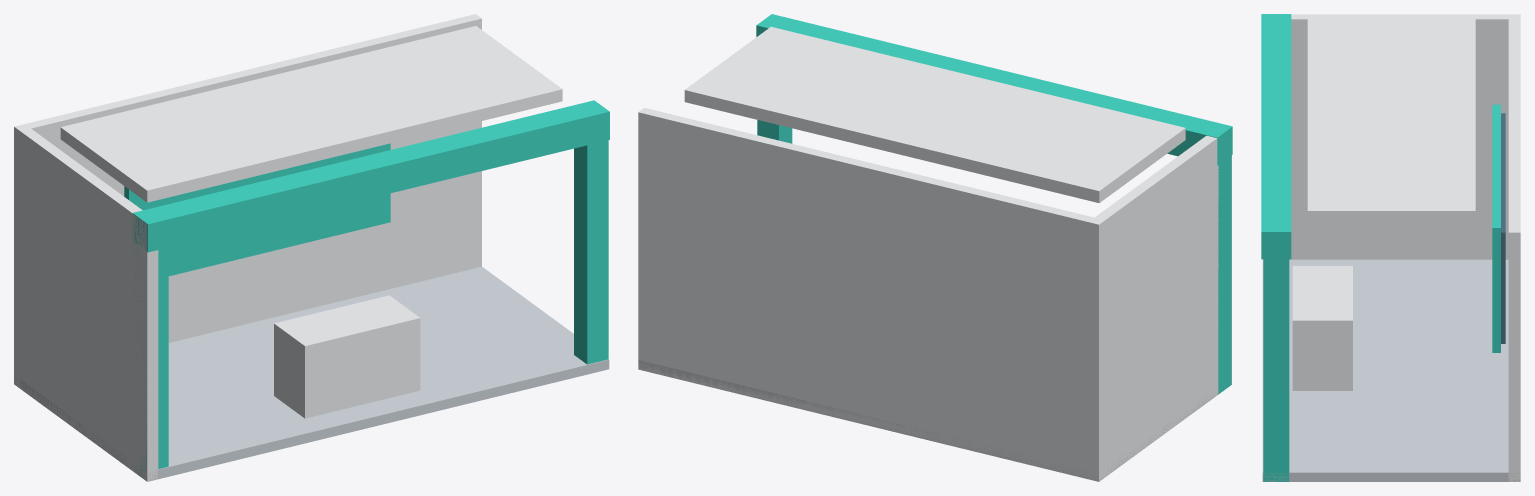
3 views of the same model, side by side, from view 1: azimuth 30°, elevation 25°; view 2: azimuth 150°, elevation 25°; view 3: azimuth 270°, elevation 25° (orthographic). The views are drawn at different scales.
Parts seen in each view (by area): view 1: Exhibition Booth Concept; view 2: Exhibition Booth Concept; view 3: Exhibition Booth Concept.
Boxes of the visible parts, left/top/right/bottom form: Exhibition Booth Concept: left=14, top=14, right=609, bottom=481; Exhibition Booth Concept: left=638, top=14, right=1232, bottom=481; Exhibition Booth Concept: left=1261, top=14, right=1520, bottom=481.
Size of the model in its own units: 6 by 3.34 by 3.01.
